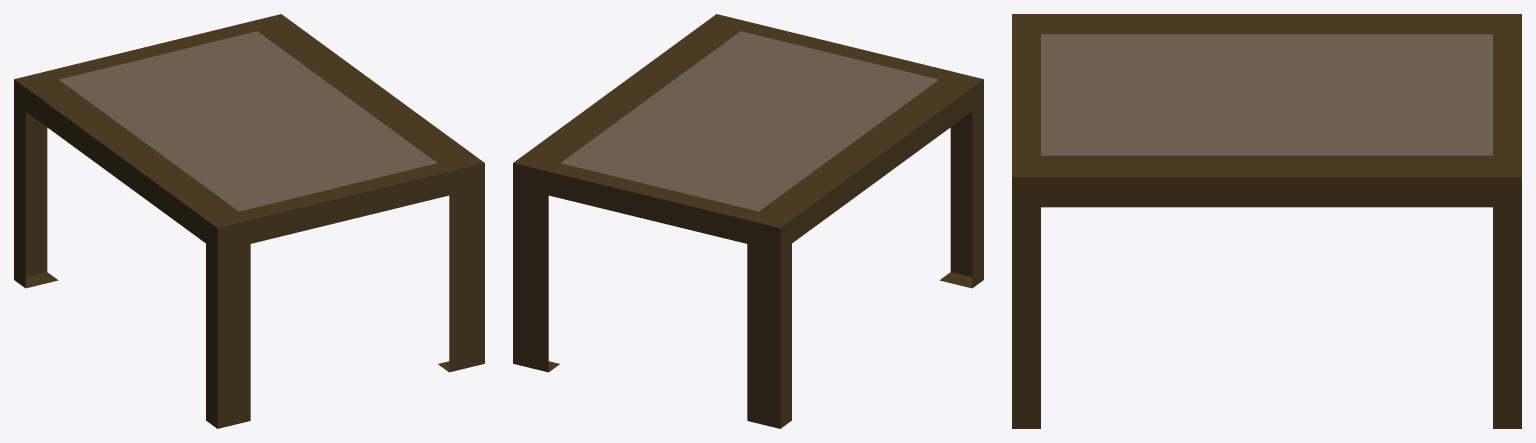
The model's file is Table.fbx.
3 views of the same model, side by side, from view 1: azimuth 30°, elevation 25°; view 2: azimuth 150°, elevation 25°; view 3: azimuth 270°, elevation 25° (orthographic). The views are drawn at different scales.
Visible parts, largest first — view 1: pCube12, pCube13; view 2: pCube12, pCube13; view 3: pCube12, pCube13.
Boxes of the visible parts, x1,y1,x2,y2 form: pCube12: (14,14,484,428); pCube13: (59,31,437,211); pCube12: (513,14,983,428); pCube13: (560,31,938,211); pCube12: (1012,14,1521,428); pCube13: (1041,34,1492,155).
Bounding box in the file's own units: 0.7753 × 0.5567 × 1.02.
